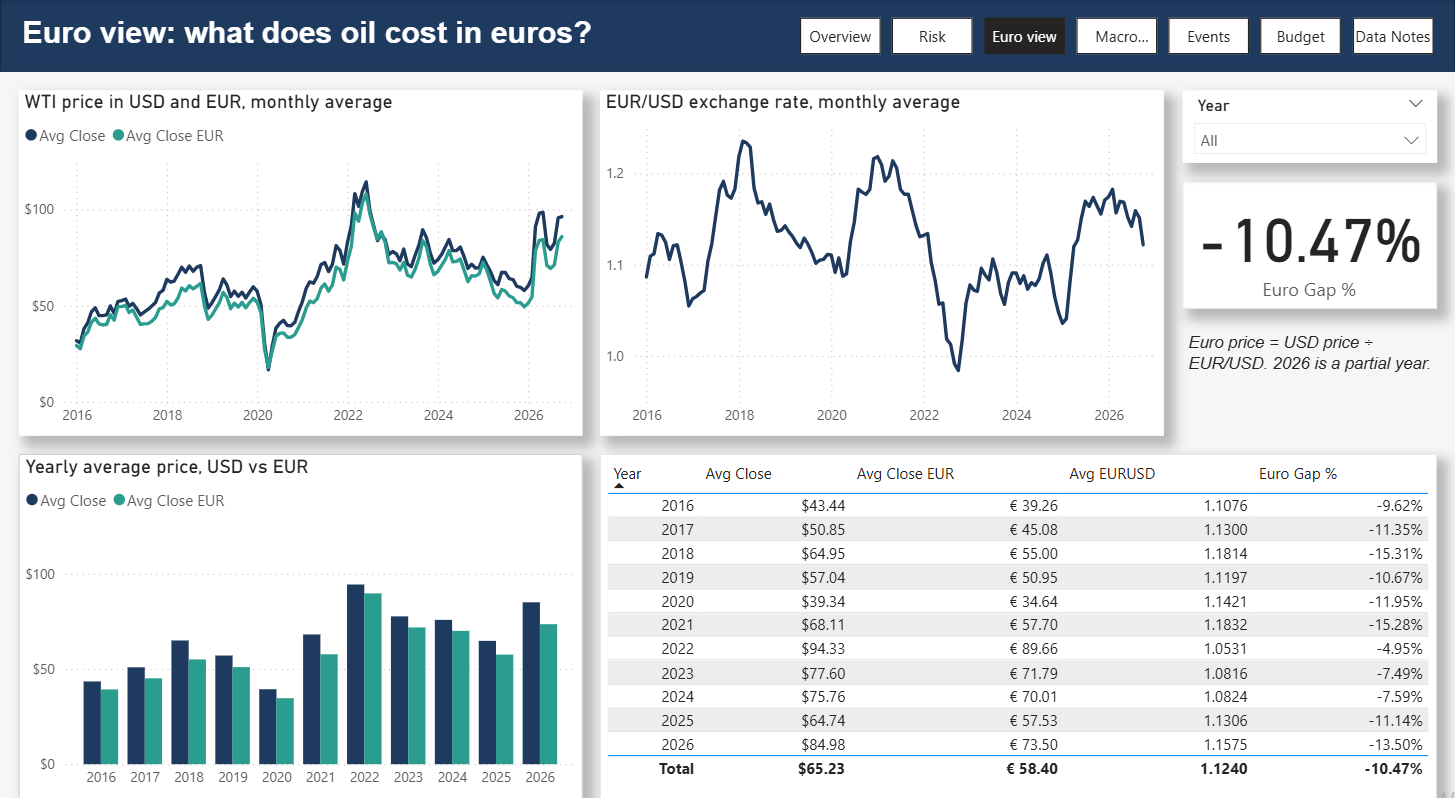

The page's visual inventory and layout, read from the dashboard file:
{"tool":"powerbi","page":{"name":"Euro view","canvas":[1280,720],"ordinal":2},"visuals":[{"type":"shape","box":[0,0,1280,64],"z":0},{"type":"lineChart","title":"WTI price in USD and EUR, monthly average","fields":{"Category":["dim_date.year_month"],"Y":["fact_daily.Avg Close","fact_daily.Avg Close EUR"]},"box":[16,80,496,304],"z":1000},{"type":"clusteredColumnChart","title":"Yearly average price, USD vs EUR","fields":{"Category":["dim_date.year"],"Y":["fact_daily.Avg Close","fact_daily.Avg Close EUR"]},"box":[16,400,496,304],"z":2000},{"type":"lineChart","title":"EUR/USD exchange rate, monthly average","fields":{"Category":["dim_date.year_month"],"Y":["fact_daily.Avg EURUSD"]},"box":[528,80,496,304],"z":3000},{"type":"tableEx","fields":{"Values":["dim_date.year","fact_daily.Avg Close","fact_daily.Avg Close EUR","fact_daily.Avg EURUSD","fact_daily.Euro Gap %"]},"box":[528,400,736,304],"z":4000},{"type":"card","fields":{"Values":["fact_daily.Euro Gap %"]},"box":[1040,160,224,112],"z":5000},{"type":"slicer","fields":{"Values":["dim_date.year"]},"box":[1040,80,224,64],"z":6000},{"type":"textbox","box":[0,10,528,48],"z":7000},{"type":"textbox","box":[1040,288,224,64],"z":8000},{"type":"pageNavigator","box":[704,16,560,32],"z":9000}]}

Visuals, with their boxes in screenshot pixels (x1, y1, x2, y2), scaled from the page's 1280x720 canvas onto the 1455x798 screenshot:
shape: select_region(0, 0, 1454, 71)
"WTI price in USD and EUR, monthly average" lineChart: select_region(18, 89, 582, 426)
"Yearly average price, USD vs EUR" clusteredColumnChart: select_region(18, 443, 582, 780)
"EUR/USD exchange rate, monthly average" lineChart: select_region(600, 89, 1164, 426)
tableEx - dim_date.year x fact_daily.Avg Close: select_region(600, 443, 1437, 780)
card - fact_daily.Euro Gap %: select_region(1182, 177, 1437, 301)
slicer - dim_date.year: select_region(1182, 89, 1437, 160)
textbox: select_region(0, 11, 600, 64)
textbox: select_region(1182, 319, 1437, 390)
pageNavigator: select_region(800, 18, 1437, 53)
